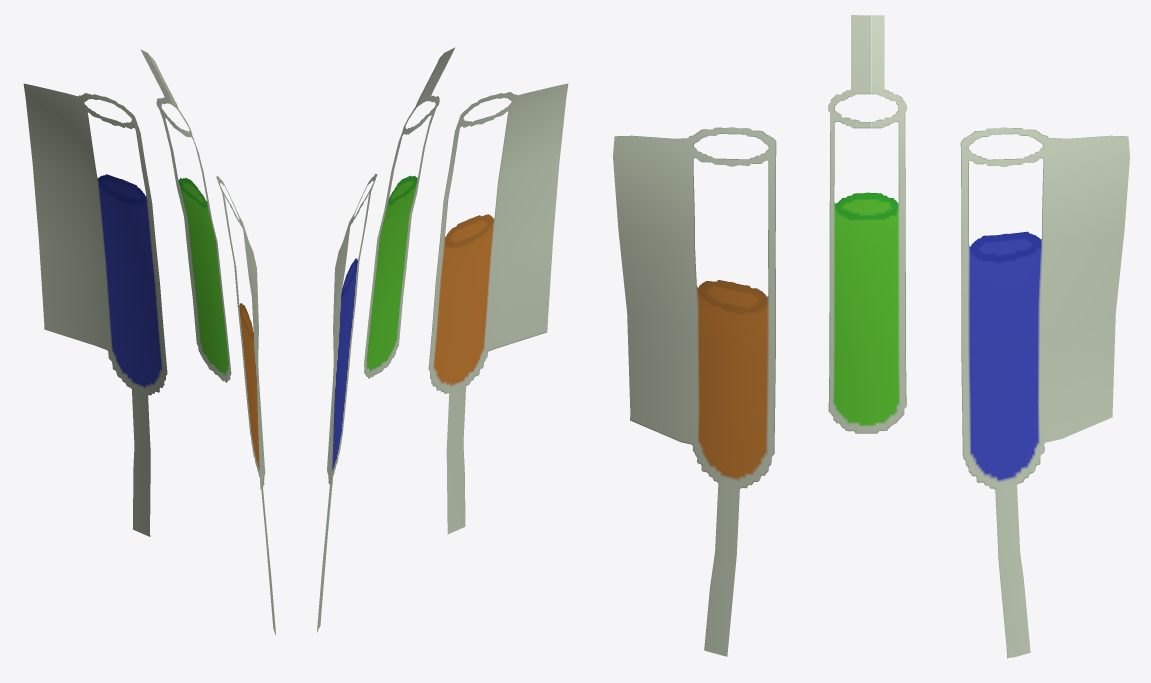
The model's file is Science.fbx.
The picture shows the model from 3 angles, left to right: view 1: azimuth 30°, elevation 25°; view 2: azimuth 150°, elevation 25°; view 3: azimuth 270°, elevation 25°; orthographic projection. The views are drawn at different scales.
Parts seen in each view (by area): view 1: Science; view 2: Science; view 3: Science.
Boxes of the visible parts, x1,y1,x2,y2 form: Science: (23, 49, 275, 634); Science: (317, 47, 568, 632); Science: (613, 15, 1129, 658).
Bounding box in the file's own units: 15 × 71.33 × 56.36.
